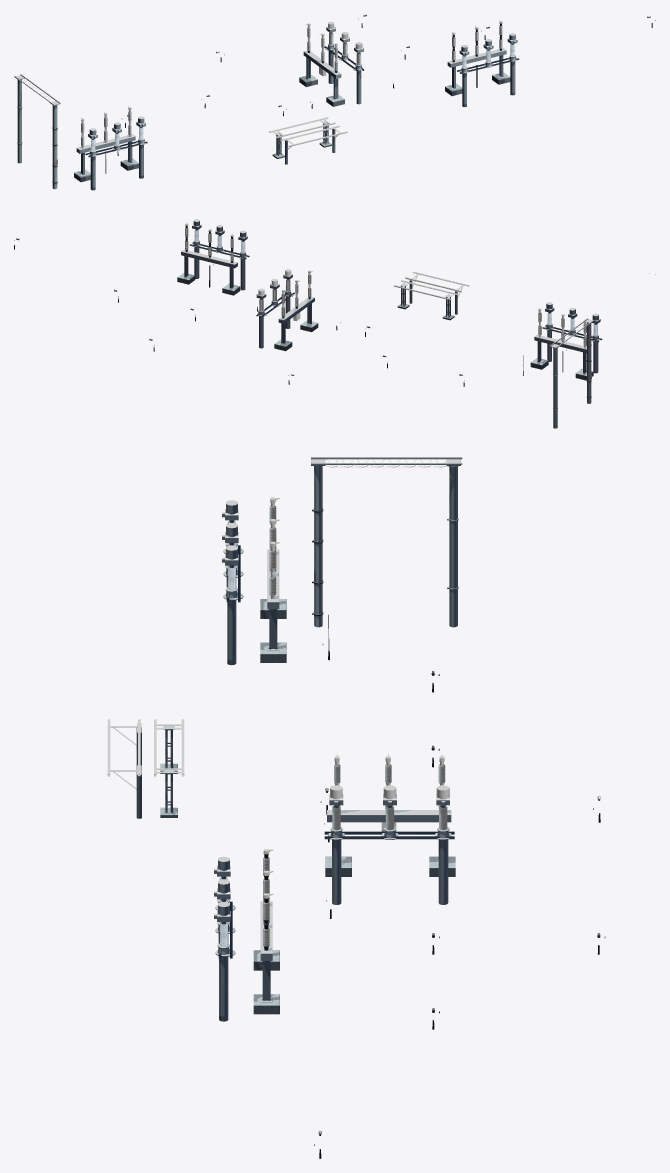
3 views of the same model, one above another, from view 1: azimuth 30°, elevation 25°; view 2: azimuth 150°, elevation 25°; view 3: azimuth 270°, elevation 25° (orthographic). The views are drawn at different scales.
Parts seen in each view (by area): view 1: 9-BBB2 (×2), 9-大电压器1号的.1, 9-禁止攀爬, 9-材质.17, 9-a1.1; view 2: 9-BBB2 (×2), 9-大电压器1号的.1, 9-禁止攀爬, 9-材质.17, 9-a1.1; view 3: 9-BBB2 (×2), 9-大电压器1号的.1, 9-禁止攀爬, 9-材质.17, 9-a1.1.
Boxes of the visible parts, left/top/right/bottom form: 9-BBB2 (×2): left=74, top=14, right=655, bottom=190; 9-大电压器1号的.1: left=299, top=27, right=364, bottom=106; 9-禁止攀爬: left=14, top=74, right=124, bottom=189; 9-材质.17: left=269, top=117, right=347, bottom=149; 9-a1.1: left=272, top=121, right=335, bottom=164; 9-BBB2 (×2): left=14, top=219, right=602, bottom=386; 9-大电压器1号的.1: left=256, top=274, right=318, bottom=351; 9-禁止攀爬: left=550, top=273, right=655, bottom=428; 9-材质.17: left=394, top=271, right=469, bottom=300; 9-a1.1: left=397, top=280, right=457, bottom=320; 9-BBB2 (×2): left=214, top=500, right=605, bottom=1158; 9-大电压器1号的.1: left=324, top=764, right=455, bottom=904; 9-禁止攀爬: left=311, top=457, right=462, bottom=627; 9-材质.17: left=107, top=719, right=184, bottom=789; 9-a1.1: left=136, top=726, right=177, bottom=818.
Size of the model in its own units: 47.19 by 6.42 by 19.06.
8 materials, 5 textured.
